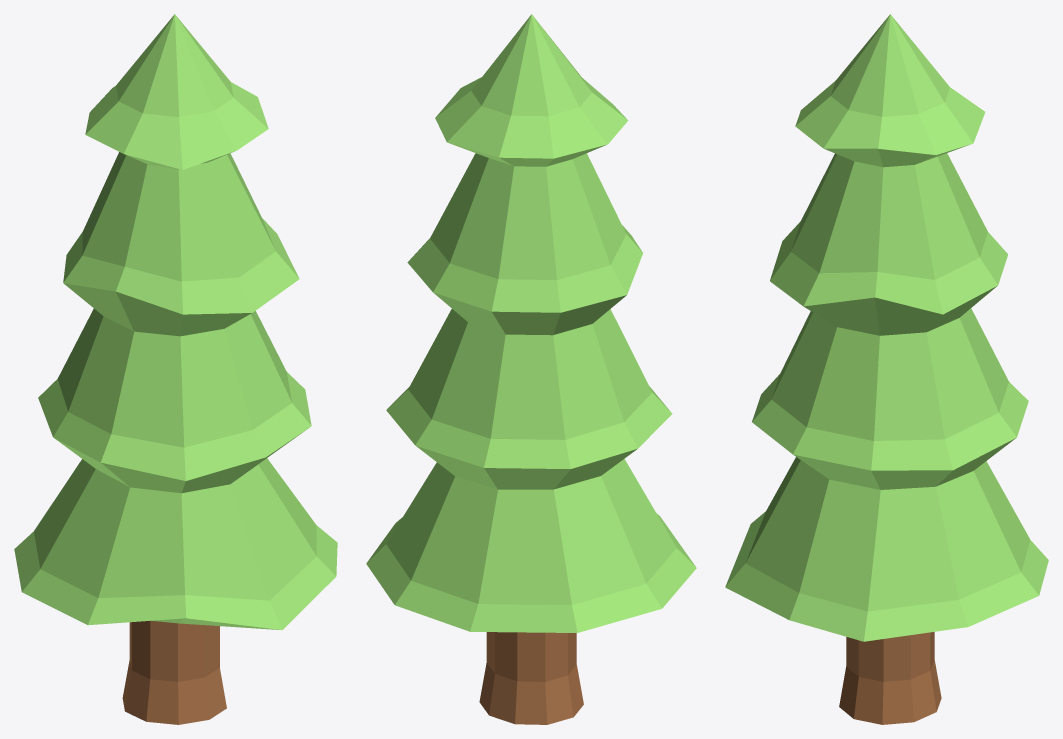
File: Tree3.fbx
3 renders of one model, left to right at view 1: azimuth 30°, elevation 25°; view 2: azimuth 150°, elevation 25°; view 3: azimuth 270°, elevation 25°, orthographic.
Visible parts, largest first — view 1: Tree3; view 2: Tree3; view 3: Tree3.
Part boxes in pixels (left/top/right/bottom): Tree3: left=14, top=14, right=337, bottom=724; Tree3: left=366, top=14, right=696, bottom=724; Tree3: left=725, top=14, right=1048, bottom=724.
Size of the model in its own units: 277 by 625 by 267.
